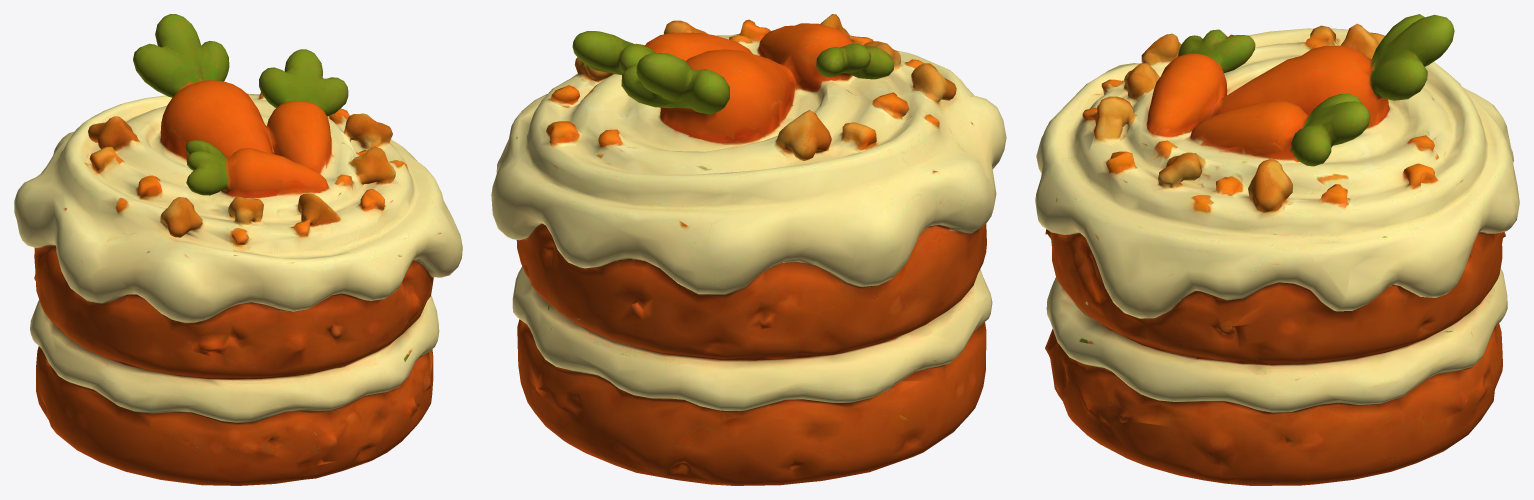
3 views of the same model, side by side, from view 1: azimuth 30°, elevation 25°; view 2: azimuth 150°, elevation 25°; view 3: azimuth 270°, elevation 25° (orthographic). The views are drawn at different scales.
Visible parts, largest first — view 1: carrot-cake; view 2: carrot-cake; view 3: carrot-cake.
Boxes of the visible parts, x1=… form: carrot-cake: x1=14, y1=14, x2=462, y2=485; carrot-cake: x1=491, y1=14, x2=1006, y2=485; carrot-cake: x1=1035, y1=14, x2=1519, y2=485.
Bounding box in the file's own units: 0.35 × 0.3091 × 0.3512.
1 material, 1 textured.
